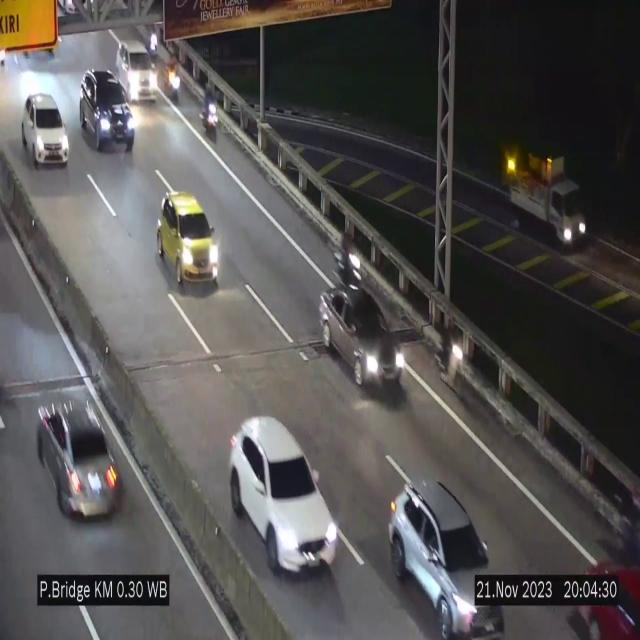Car: (389, 479, 506, 638), (230, 417, 340, 574), (34, 378, 128, 530), (318, 284, 406, 394), (566, 540, 640, 640), (157, 192, 220, 288), (80, 70, 134, 152), (22, 94, 68, 168), (114, 32, 158, 106)
Motorcycle: (436, 316, 470, 408), (332, 227, 367, 288), (162, 48, 182, 104), (202, 81, 218, 142)
Truck: (498, 134, 596, 275)
